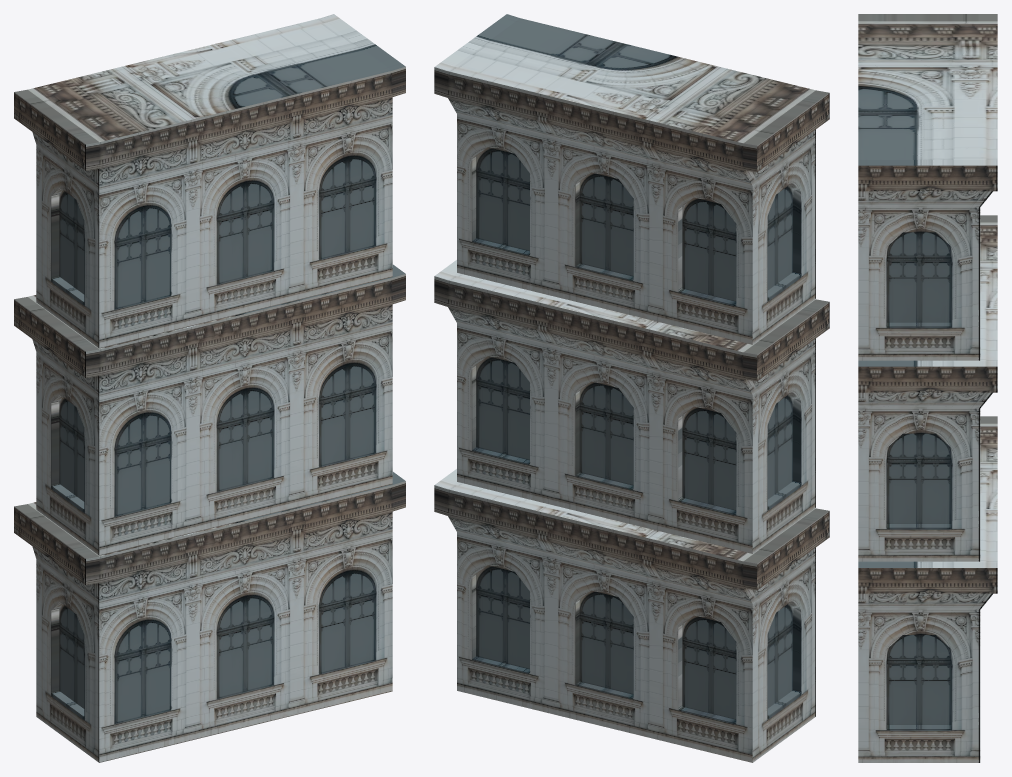
File: FancyBuilding1 1.fbx
3 views of the same model, side by side, from view 1: azimuth 30°, elevation 25°; view 2: azimuth 150°, elevation 25°; view 3: azimuth 270°, elevation 25° (orthographic). The views are drawn at different scales.
Visible parts, largest first — view 1: Cube.028; view 2: Cube.028; view 3: Cube.028.
Boxes of the visible parts, left/top/right/bottom form: Cube.028: left=14, top=14, right=405, bottom=762; Cube.028: left=434, top=14, right=829, bottom=762; Cube.028: left=858, top=14, right=997, bottom=762.
Size of the model in its own units: 2836 by 5267 by 1104.
